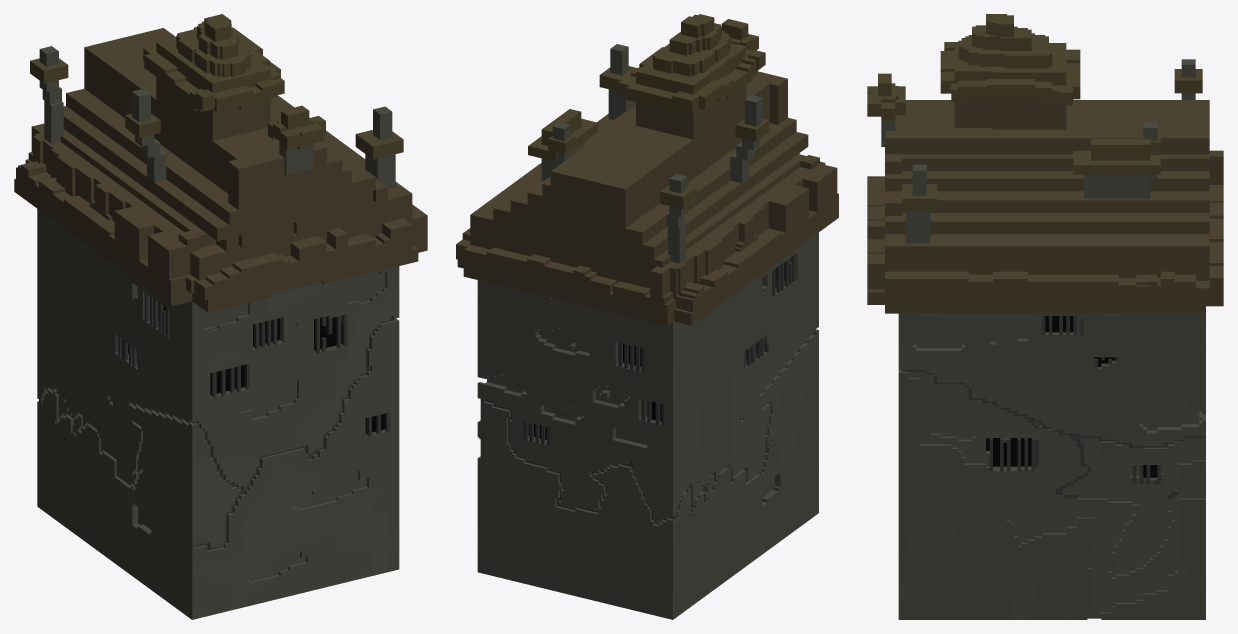
File: housev2.glb
The picture shows the model from 3 angles, left to right: view 1: azimuth 30°, elevation 25°; view 2: azimuth 150°, elevation 25°; view 3: azimuth 270°, elevation 25°; orthographic projection. The views are drawn at different scales.
Visible parts, largest first — view 1: def_house2; view 2: def_house2; view 3: def_house2.
Boxes of the visible parts, x1,y1,x2,y2 form: def_house2: (14, 14, 427, 619); def_house2: (456, 14, 838, 619); def_house2: (867, 14, 1223, 619).
Bounding box in the file's own units: 8.3 × 17 × 10.2.
1 material, 1 textured.
